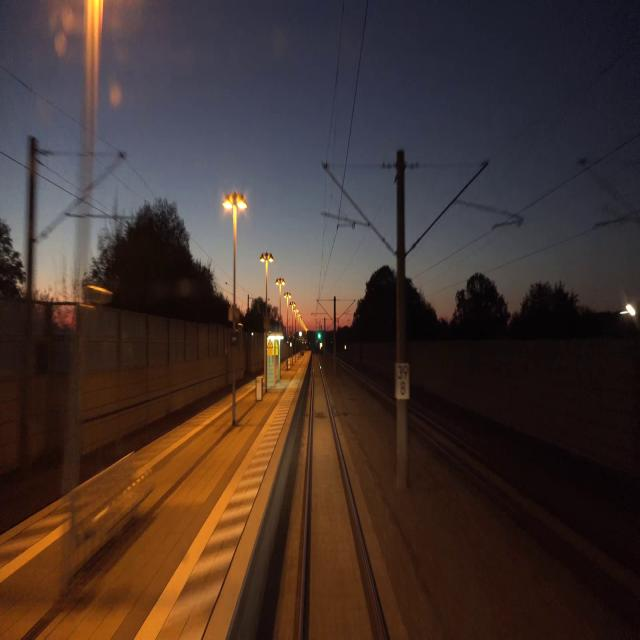rail-track: (406, 408, 640, 596), (304, 356, 381, 639), (374, 386, 395, 403)
